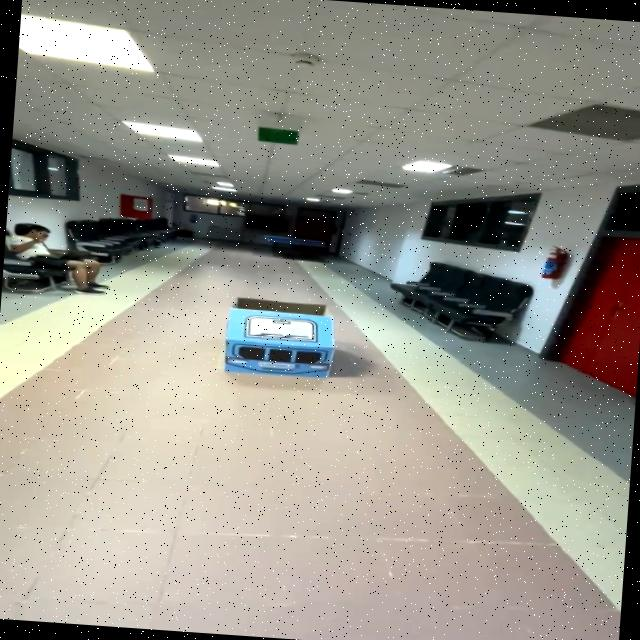blue_car: (195, 286, 365, 393)
